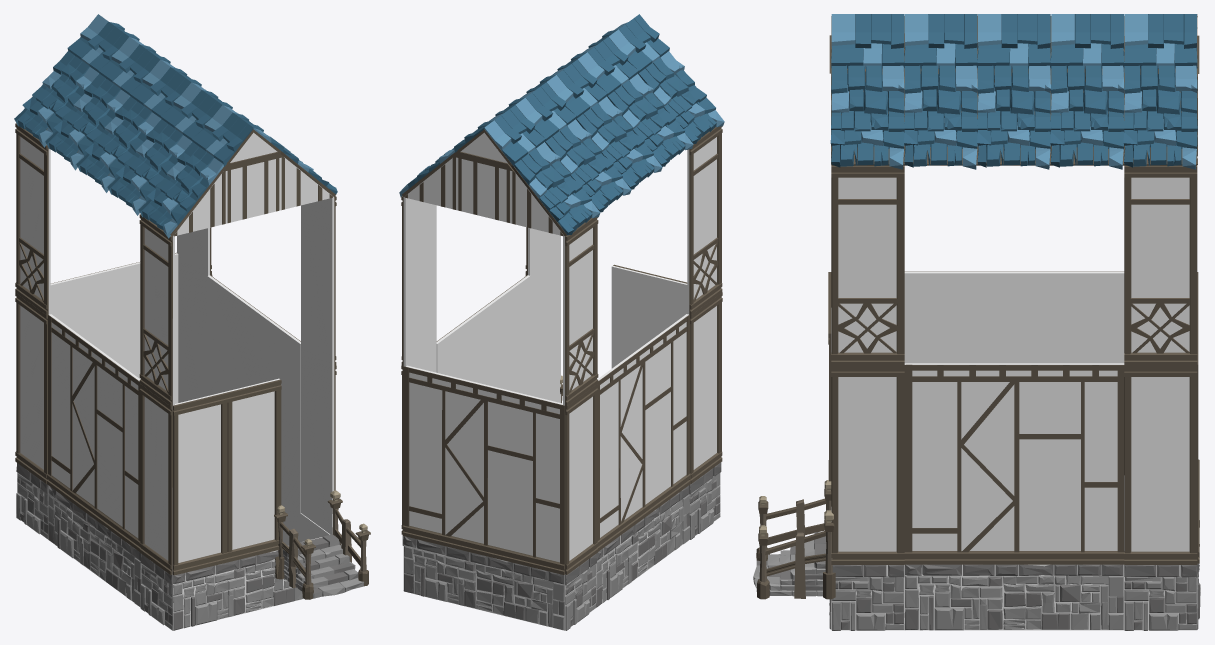
The model's file is House_08_parts.fbx.
3 views of the same model, side by side, from view 1: azimuth 30°, elevation 25°; view 2: azimuth 150°, elevation 25°; view 3: azimuth 270°, elevation 25° (orthographic). The views are drawn at different scales.
Visible parts, largest first — view 1: WALL_05_2, WALL_05_4, WALL_03_4, WALL_03_3, WALL_05_3, FOUNDATION_02_16, WALL_04_6, WALL_04_5, STAIRS_06_2, WALL_03_7, WALL_03_5, WALL_04_3 (+21 smaller); view 2: WALL_05_3, WALL_05_2, FOUNDATION_02_18, WALL_05_4, WALL_04_5, WALL_04_6, WALL_03_6, WALL_04_4, WALL_03_5, FOUNDATION_02_19, WALL_03_3, WALL_03_7 (+20 smaller); view 3: WALL_05_4, WALL_05_2, WALL_04_3, WALL_04_4, FOUNDATION_02_17, WALL_03_8, WALL_03_7, ROOF_base_7, ROOF_base_4, ROOF_base_5, ROOF_base_3, ROOF_base_6 (+9 smaller).
Boxes of the visible parts, bbox=[...] form: WALL_05_2: bbox=[47, 314, 140, 551]; WALL_05_4: bbox=[207, 275, 300, 512]; WALL_03_4: bbox=[173, 391, 227, 575]; WALL_03_3: bbox=[226, 378, 281, 562]; WALL_05_3: bbox=[50, 252, 178, 403]; FOUNDATION_02_16: bbox=[173, 537, 322, 630]; WALL_04_6: bbox=[139, 214, 174, 405]; WALL_04_5: bbox=[15, 123, 50, 314]; STAIRS_06_2: bbox=[274, 490, 370, 599]; WALL_03_7: bbox=[301, 344, 336, 534]; WALL_03_5: bbox=[139, 384, 172, 574]; WALL_04_3: bbox=[301, 196, 336, 366]; WALL_05_3: bbox=[402, 365, 564, 574]; WALL_05_2: bbox=[597, 314, 690, 551]; FOUNDATION_02_18: bbox=[403, 536, 565, 630]; WALL_05_4: bbox=[436, 275, 530, 395]; WALL_04_5: bbox=[563, 217, 598, 405]; WALL_04_6: bbox=[687, 126, 722, 314]; WALL_03_6: bbox=[565, 383, 598, 574]; WALL_04_4: bbox=[401, 196, 436, 366]; WALL_03_5: bbox=[689, 292, 722, 483]; FOUNDATION_02_19: bbox=[596, 485, 690, 607]; WALL_03_3: bbox=[611, 264, 667, 368]; WALL_03_7: bbox=[525, 253, 560, 402]; WALL_05_4: bbox=[904, 363, 1124, 564]; WALL_05_2: bbox=[904, 271, 1124, 363]; WALL_04_3: bbox=[831, 165, 904, 365]; WALL_04_4: bbox=[1124, 165, 1197, 365]; FOUNDATION_02_17: bbox=[904, 564, 1124, 630]; WALL_03_8: bbox=[1124, 366, 1197, 564]; WALL_03_7: bbox=[831, 366, 904, 564]; ROOF_base_7: bbox=[1123, 65, 1197, 169]; ROOF_base_4: bbox=[904, 65, 977, 169]; ROOF_base_5: bbox=[977, 63, 1051, 169]; ROOF_base_3: bbox=[830, 65, 904, 169]; ROOF_base_6: bbox=[1050, 65, 1124, 169].
Size of the model in its own units: 321 by 859 by 611.
